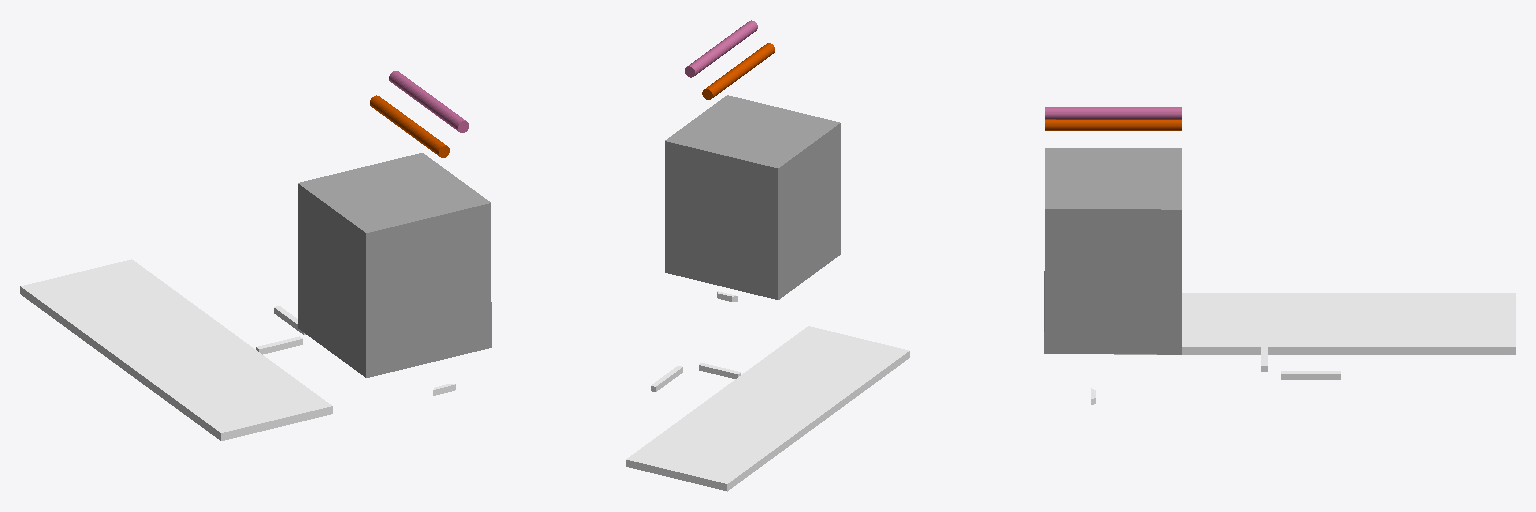
URDF robot description (simple_mockup):
<?xml version="1.0" ?>
<robot name="simple_mockup">
  <link name="base_link" />

    <link name="bar_hor">
    <visual>
      <geometry>
        <mesh filename="package://simple_mockup_description/meshes/simple_mockup/bar_hor.dae" />
      </geometry>
      <material name="default">
        <color rgba="1.0 1.0 1.0 1" />
      </material>
    </visual>

  </link>
  <joint name="bar_hor" type="fixed">
    <parent link="base_link" />
    <child link="bar_hor" />
    <origin rpy="0.0 0.0 0.0" xyz="0.0 0.0 0.0" />
  </joint>

  <link name="bar_inc">
    <visual>
      <geometry>
        <mesh filename="package://simple_mockup_description/meshes/simple_mockup/bar_inc.dae" />
      </geometry>
      <material name="default">
        <color rgba="1.0 1.0 1.0 1" />
      </material>
    </visual>

  </link>
  <joint name="bar_inc" type="fixed">
    <parent link="base_link" />
    <child link="bar_inc" />
    <origin rpy="0.0 0.0 0.0" xyz="0.0 0.0 0.0" />
  </joint>

  <link name="bar_ver">
    <visual>
      <geometry>
        <mesh filename="package://simple_mockup_description/meshes/simple_mockup/bar_ver.dae" />
      </geometry>
      <material name="default">
        <color rgba="1.0 1.0 1.0 1" />
      </material>
    </visual>

  </link>
  <joint name="bar_ver" type="fixed">
    <parent link="base_link" />
    <child link="bar_ver" />
    <origin rpy="0.0 0.0 0.0" xyz="0.0 0.0 0.0" />
  </joint>

  <link name="wall">
    <visual>
      <geometry>
        <mesh filename="package://simple_mockup_description/meshes/simple_mockup/wall.dae" />
      </geometry>
      <material name="default">
        <color rgba="1.0 1.0 1.0 1" />
      </material>
    </visual>

  </link>
  <joint name="wall" type="fixed">
    <parent link="base_link" />
    <child link="wall" />
    <origin rpy="0.0 0.0 0.0" xyz="0.0 0.0 0.0" />
  </joint>
  <link name="TopCylinder">
    <visual>
      <geometry>
        <cylinder length="0.62" radius="0.03"/>
      </geometry>
    </visual>
    <collision>
      <geometry>
        <cylinder length="0.62" radius="0.03"/>
      </geometry>
    </collision>
  </link>
  <joint name="TopCylinderJoint" type="fixed">
    <parent link="base_link" />
    <child link="TopCylinder" />
    <origin rpy="1.57 0.0 0.0" xyz="0.98 0.0 1.02" />
  </joint>
  <link name="MiddleCylinder">
    <visual>
      <geometry>
        <cylinder length="0.62" radius="0.03"/>
      </geometry>
    </visual>
    <collision>
      <geometry>
        <cylinder length="0.62" radius="0.03"/>
      </geometry>
    </collision>
  </link>
  <joint name="MiddleCylinderJoint" type="fixed">
    <parent link="base_link" />
    <child link="MiddleCylinder" />
    <origin rpy="1.57 0.0 0.0" xyz="1.08 0.0 1.12" />
  </joint>
  <link name="LowerBox">
    <visual>
      <geometry>
        <box size="0.65 0.72 0.62"/>
      </geometry>
    </visual>
    <collision>
      <geometry>
        <box size="0.65 0.72 0.62"/>
      </geometry>
    </collision>
  </link>
  <joint name="LowerBoxJoint" type="fixed">
    <parent link="base_link" />
    <child link="LowerBox" />
    <origin rpy="1.57 0.0 0.0" xyz="0.9 0.0 0.35" />
  </joint>
</robot>

--- What the picture shows (computed from the rendered views, not written in the file) ---
Views: 3 orthographic renders of the robot side by side, from view 1: azimuth 30°, elevation 25°; view 2: azimuth 150°, elevation 25°; view 3: azimuth 270°, elevation 25°.
Model simple_mockup with 8 links and 7 joints (7 fixed), rooted at base_link, posed all joints at 0.
Links seen in each view (by area): view 1: LowerBox, wall, TopCylinder, MiddleCylinder; view 2: LowerBox, wall, MiddleCylinder, TopCylinder; view 3: LowerBox, wall, MiddleCylinder, TopCylinder, bar_ver.
Boxes of the visible links, bbox=[...] form: LowerBox: bbox=[298, 153, 491, 377]; wall: bbox=[20, 259, 332, 440]; TopCylinder: bbox=[370, 95, 449, 157]; MiddleCylinder: bbox=[389, 71, 468, 132]; LowerBox: bbox=[665, 95, 840, 299]; wall: bbox=[626, 326, 909, 491]; MiddleCylinder: bbox=[685, 20, 757, 77]; TopCylinder: bbox=[702, 43, 774, 99]; LowerBox: bbox=[1044, 148, 1181, 354]; wall: bbox=[1114, 293, 1515, 354]; MiddleCylinder: bbox=[1045, 107, 1181, 119]; TopCylinder: bbox=[1045, 120, 1181, 130]; bar_ver: bbox=[1281, 371, 1340, 379].
Size in the robot's own frame: 1.23 by 2.12 by 1.47 metres.
Meshes: 4 distinct files referenced, 4 mesh visuals loaded (4 Collada DAE).